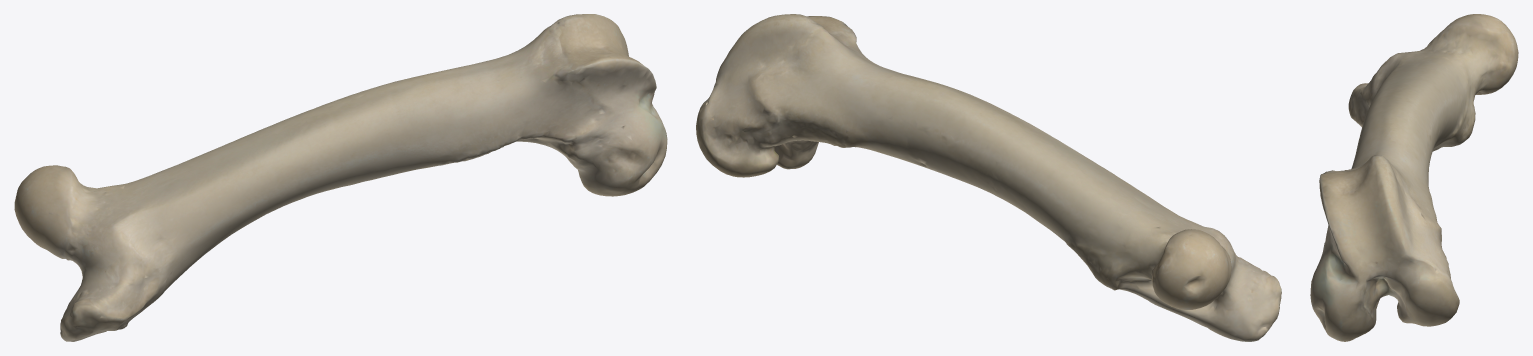
File: Femur_re_schaf.fbx
3 renders of one model, left to right at view 1: azimuth 30°, elevation 25°; view 2: azimuth 150°, elevation 25°; view 3: azimuth 270°, elevation 25°, orthographic. The views are drawn at different scales.
Parts seen in each view (by area): view 1: Femur_re_Schaf.001; view 2: Femur_re_Schaf.001; view 3: Femur_re_Schaf.001.
Part boxes in pixels (box(x1,y1,x2,y2)): Femur_re_Schaf.001: box(14, 14, 667, 341); Femur_re_Schaf.001: box(696, 14, 1281, 341); Femur_re_Schaf.001: box(1310, 14, 1518, 341).
Bounding box in the file's own units: 19384 × 6824 × 6283.
